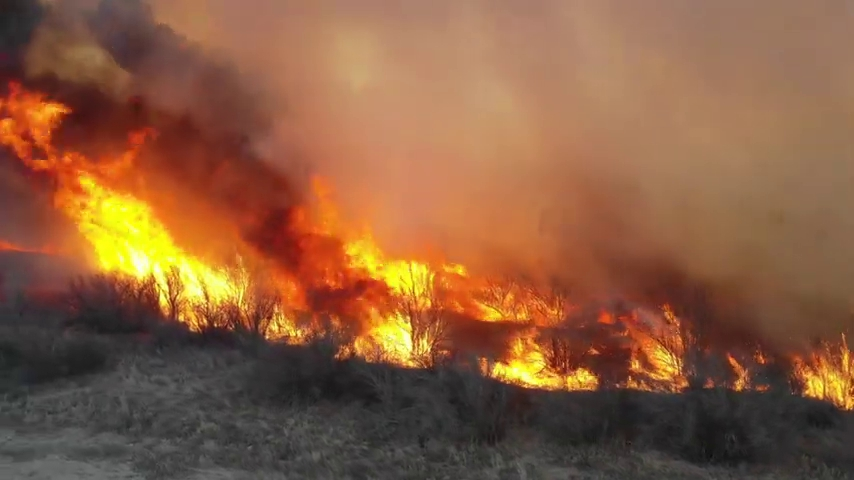forest_fire: (0, 83, 770, 390), (774, 335, 853, 408), (239, 185, 252, 189), (159, 192, 167, 195), (9, 243, 16, 246), (187, 218, 189, 221), (183, 212, 189, 213), (237, 179, 238, 180)
